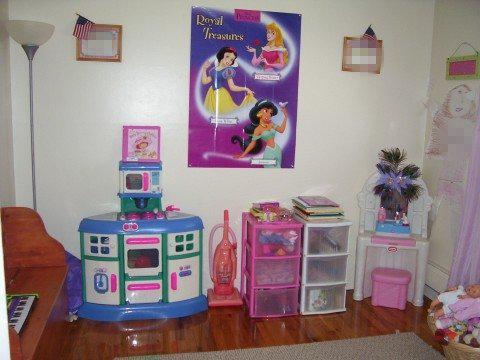Otro Obstaculo: (74, 218, 211, 320), (208, 215, 245, 307)
